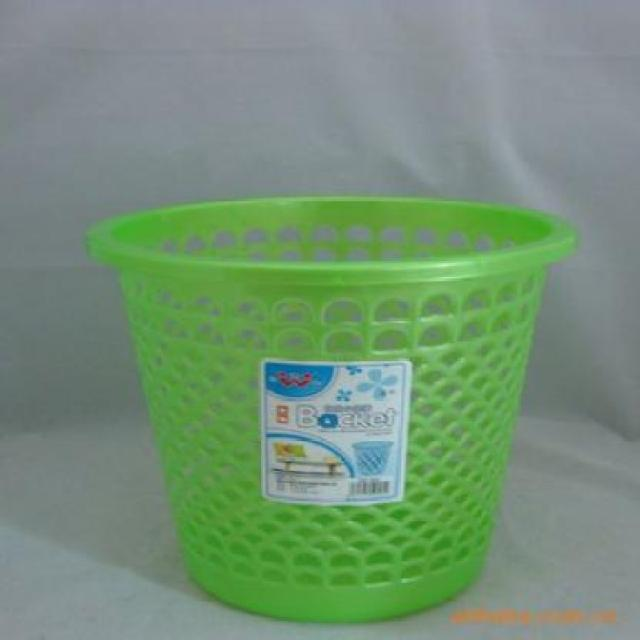dustbin: (82, 192, 580, 626)
